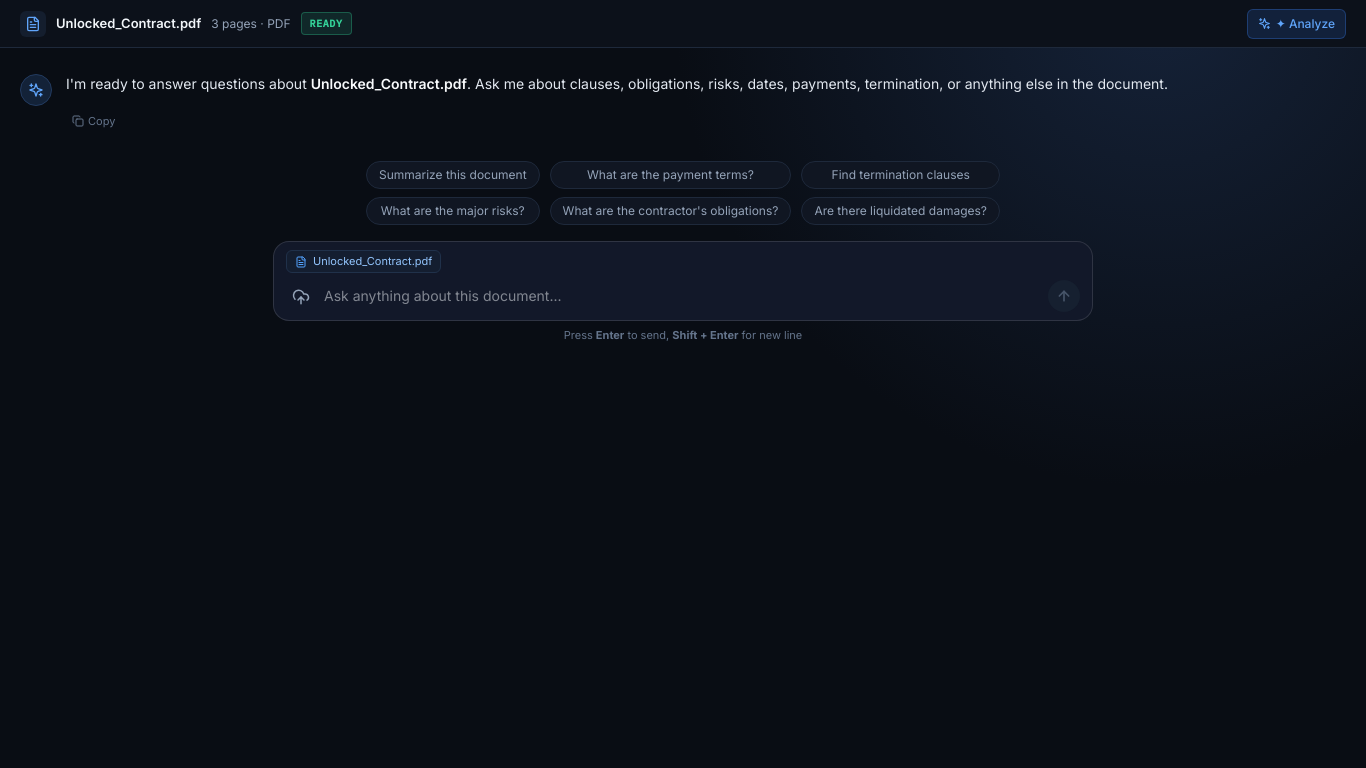
Test: Password-Protected PDF Chat & Grounded QA Integration › Chat Question against unlocked password PDF returns grounded answer and page citation
This screenshot has width=1366, height=768.
# Click suggestion chip for payment terms
Click the button "What are the payment terms?".
click(670, 175)  # box [550,161,791,189]
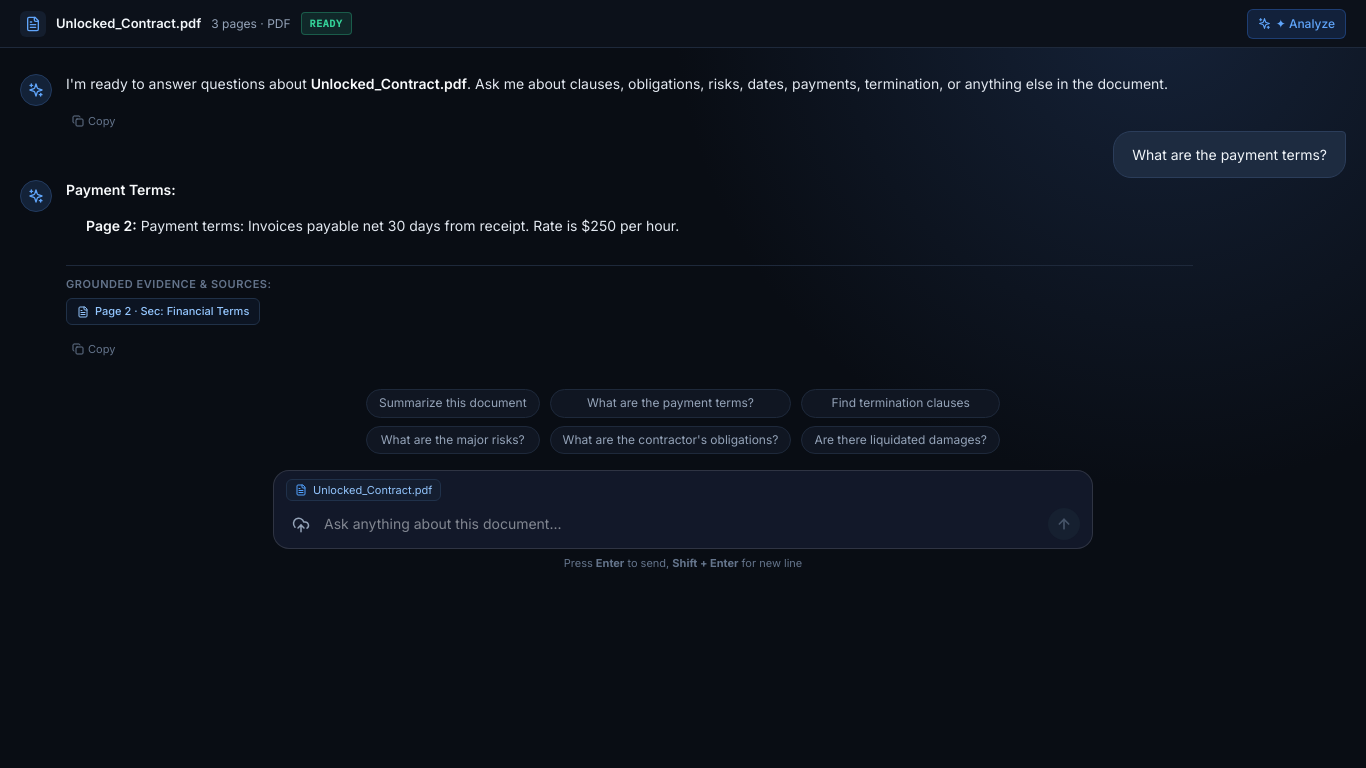
Expected: the button named "Stop generating" is shown, [1048,508,1080,540]
Expected: the text "Payment Terms:" is shown, [66,181,176,198]
Expected: the list item "$250 per hour" is shown, [137,216,679,234]
